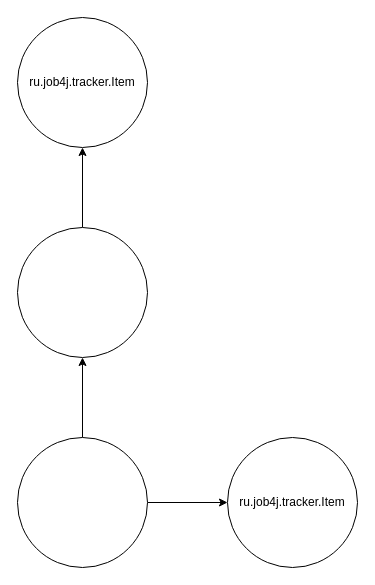
Some shapes in this 375 by 585 pixel diagram are drawn without their labels. Each missing label, with the centre of its shape:
ru.job4j.tracker.StartUI: the point at 82,502
ru.job4j.tracker.Tracker: the point at 82,292
